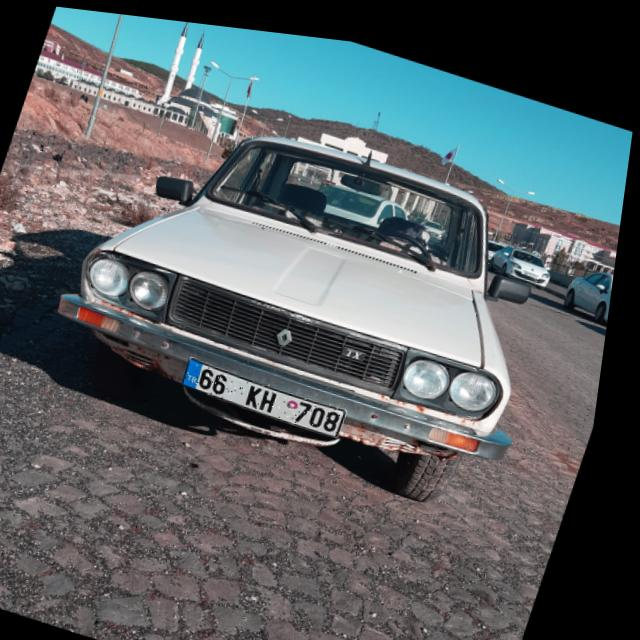license_plate: (188, 353, 360, 427)
